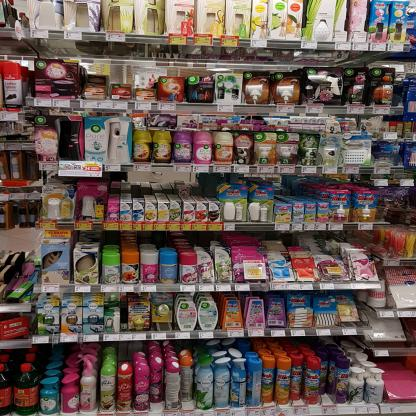Void: (112, 175, 218, 198), (273, 177, 324, 201), (382, 358, 415, 390), (116, 62, 154, 86)
